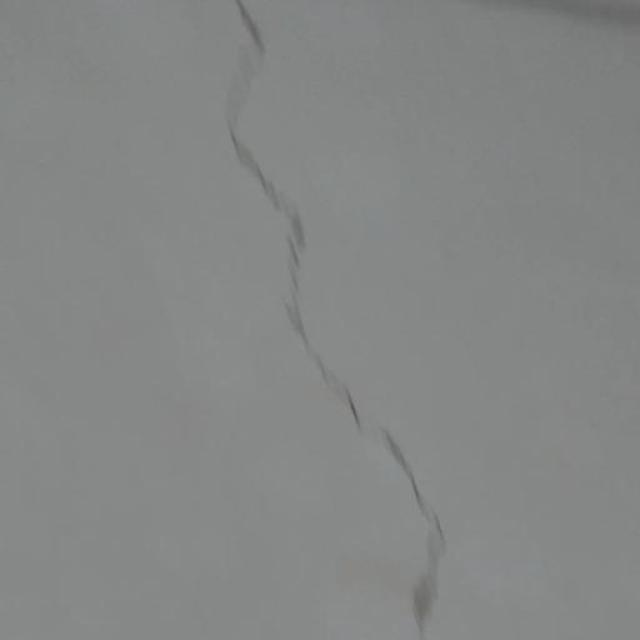minor_crack: (142, 0, 486, 640)
